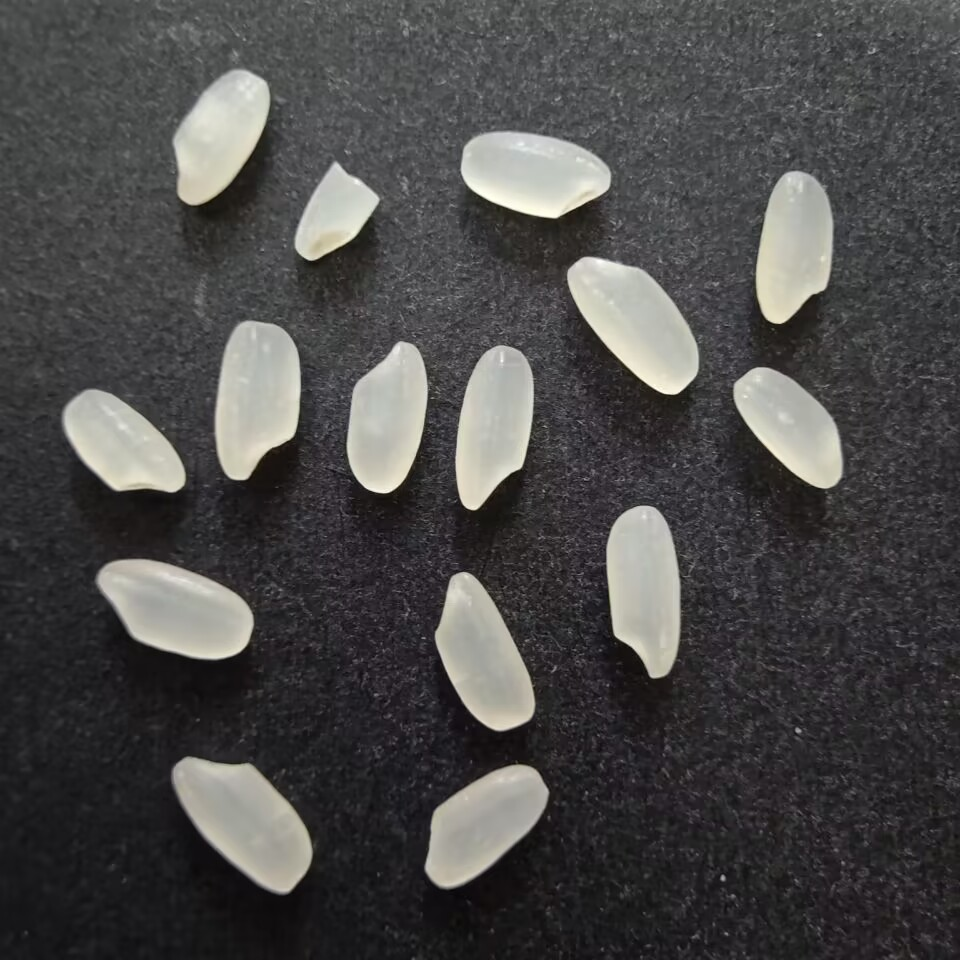broken: (291, 158, 385, 265)
rice: (164, 752, 321, 896), (561, 253, 705, 396), (432, 569, 539, 735), (422, 758, 554, 892), (91, 556, 256, 662), (210, 316, 305, 486), (602, 501, 689, 686), (726, 363, 849, 493), (455, 130, 618, 225), (449, 341, 539, 512), (166, 66, 272, 211), (56, 387, 192, 497), (342, 337, 434, 497), (753, 166, 842, 328)
